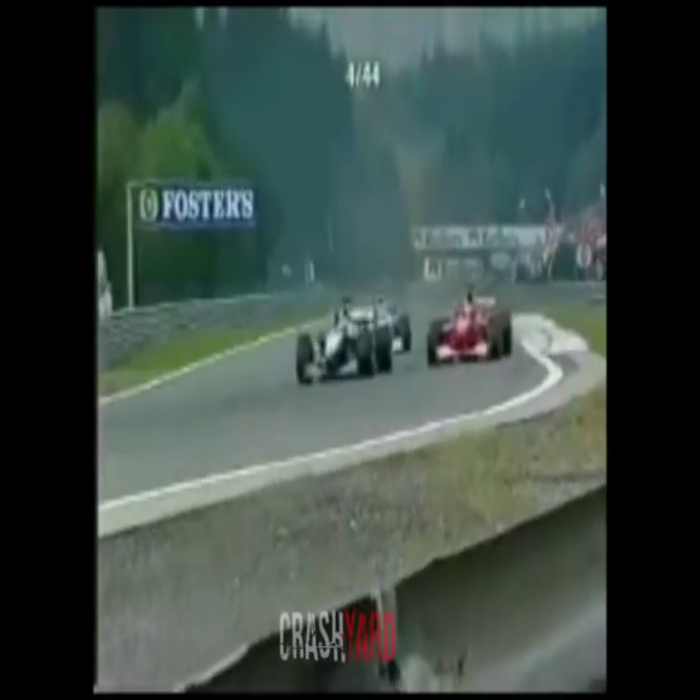f1_car: (288, 303, 394, 389), (423, 292, 517, 371)
